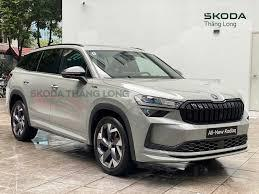skoda: (204, 90, 224, 99)
